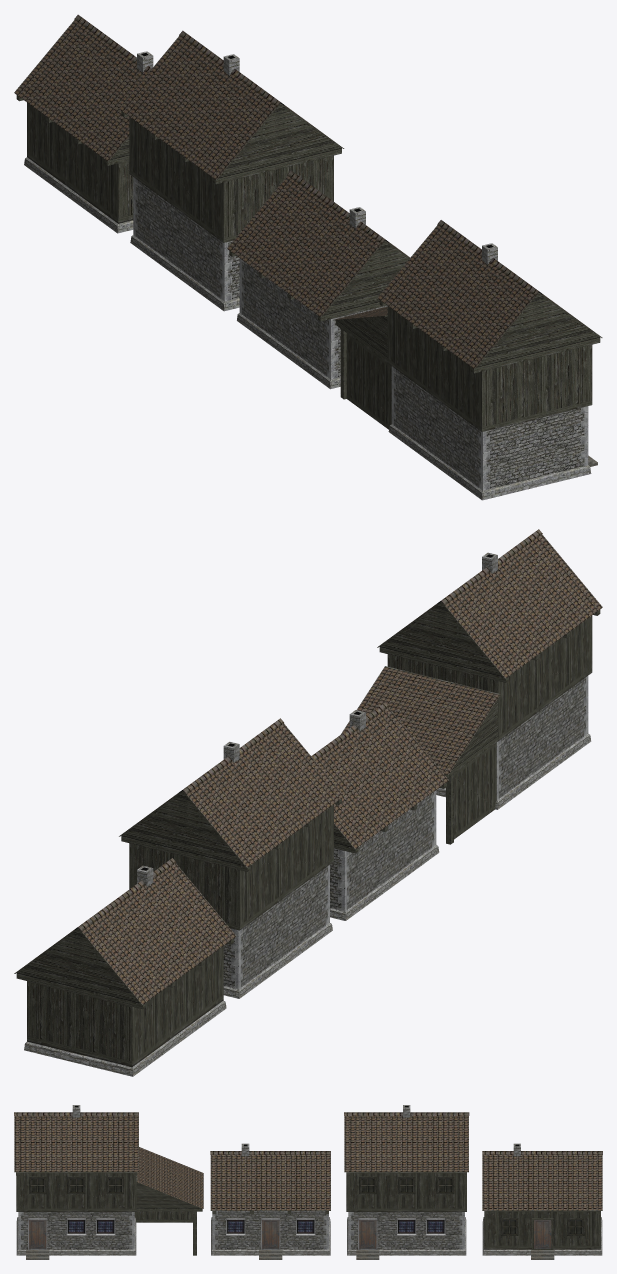
3 renders of one model, top to bottom at view 1: azimuth 30°, elevation 25°; view 2: azimuth 150°, elevation 25°; view 3: azimuth 270°, elevation 25°, orthographic. The views are drawn at different scales.
Parts seen in each view (by area): view 1: RigModels_Buildings; view 2: RigModels_Buildings; view 3: RigModels_Buildings.
Part boxes in pixels (x1,y1,x2,y2): RigModels_Buildings: [14, 14, 602, 500]; RigModels_Buildings: [14, 529, 602, 1076]; RigModels_Buildings: [14, 1105, 602, 1259].
Size of the model in its own units: 1044 by 6286 by 1553.
Materials: 1 (1 with a texture image).
